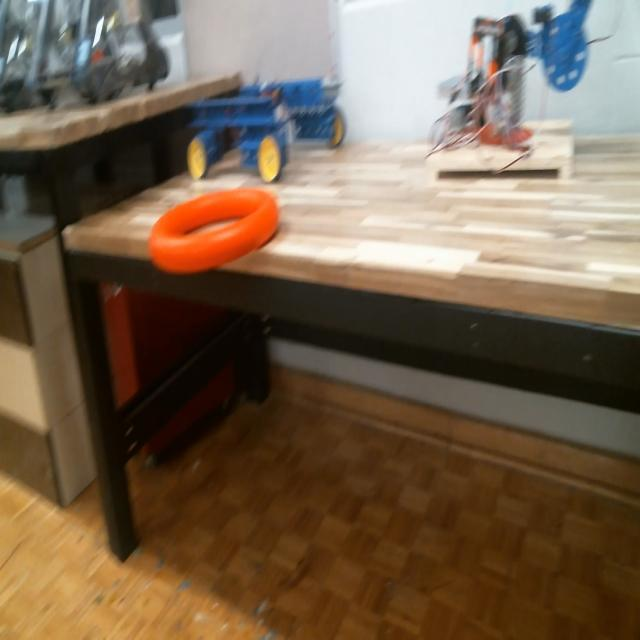note: (147, 182, 280, 276)
